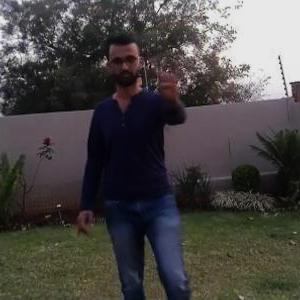takeoff-hand: (153, 56, 186, 101)
